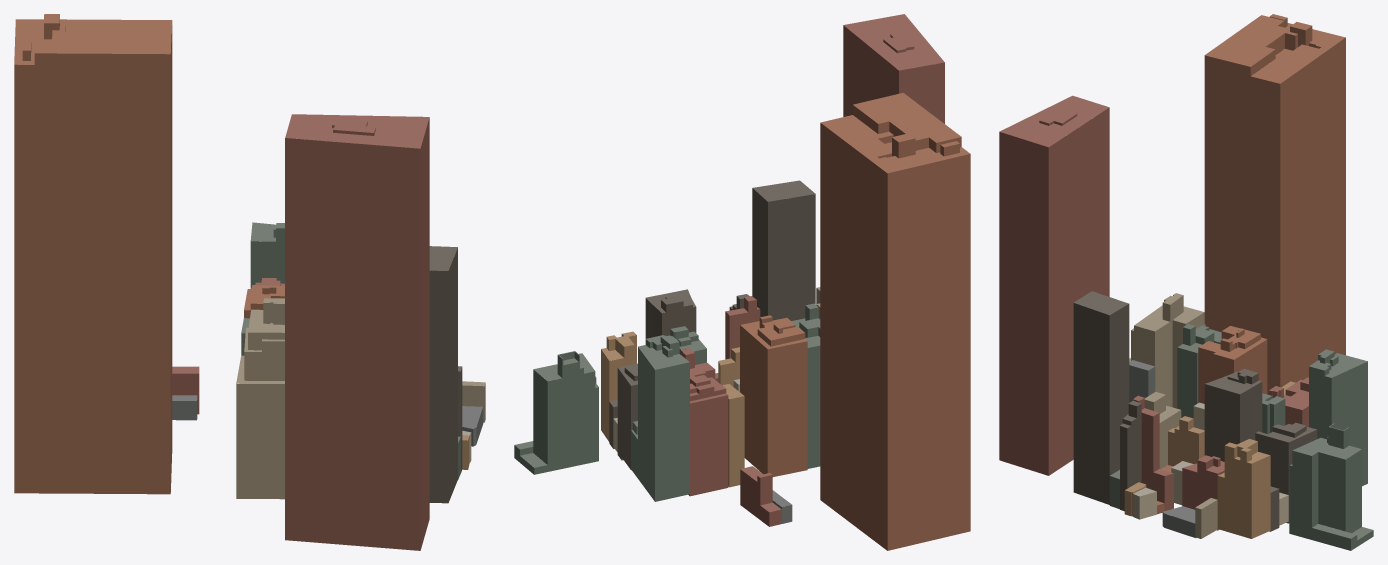
File: tile--6_12.glb
3 renders of one model, left to right at view 1: azimuth 30°, elevation 25°; view 2: azimuth 150°, elevation 25°; view 3: azimuth 270°, elevation 25°, orthographic. The views are drawn at different scales.
Visible parts, largest first — view 1: wall, roof; view 2: wall, roof; view 3: wall, roof.
Boxes of the visible parts, left/top/right/bottom form: wall: left=14, top=20, right=485, bottom=550; roof: left=14, top=14, right=485, bottom=442; wall: left=514, top=25, right=970, bottom=550; roof: left=515, top=14, right=970, bottom=512; wall: left=999, top=16, right=1373, bottom=550; roof: left=999, top=14, right=1373, bottom=540.
Size of the model in its own units: 250 by 229 by 212.
